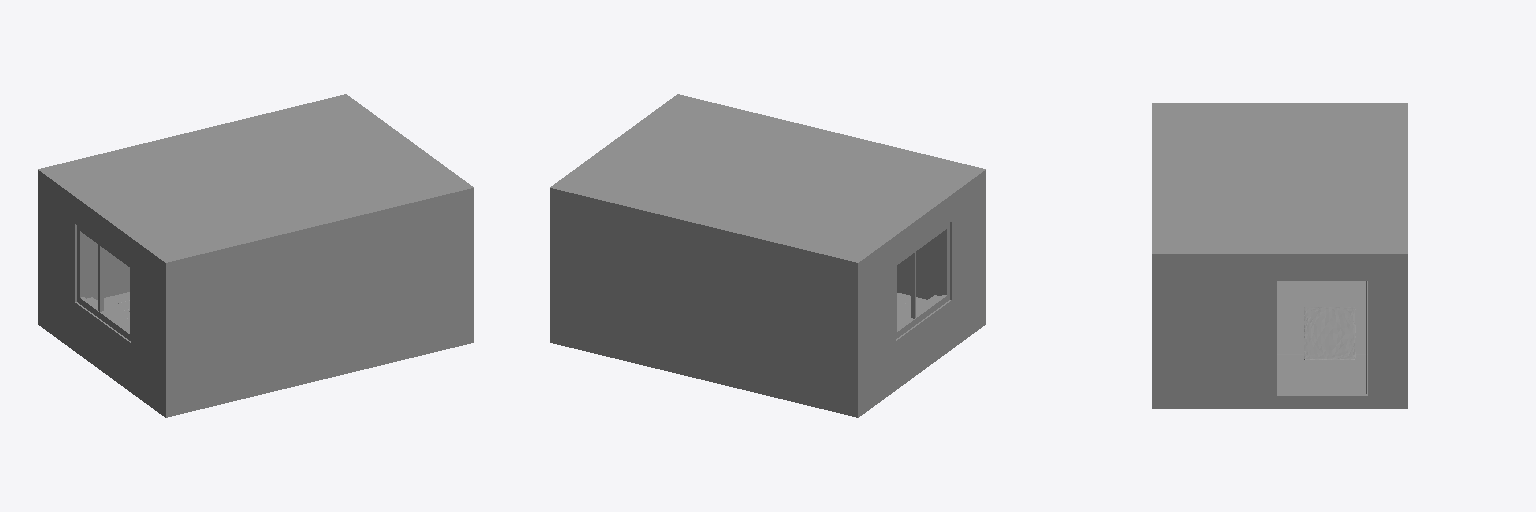
The model's file is kitchen3_layout.obj.
3 renders of one model, left to right at view 1: azimuth 30°, elevation 25°; view 2: azimuth 150°, elevation 25°; view 3: azimuth 270°, elevation 25°, orthographic.
Parts seen in each view (by area): view 1: wall.044, ceiling.020, window.032, floor.013; view 2: wall.044, ceiling.020, window.032; view 3: ceiling.020, wall.044, floor.013, carpet.005.
Boxes of the visible parts, box(x1,y1,x2,y2) form: wall.044: box(38, 183, 473, 417); ceiling.020: box(38, 94, 473, 275); window.032: box(77, 225, 130, 340); floor.013: box(97, 292, 129, 323); wall.044: box(550, 183, 985, 417); ceiling.020: box(550, 94, 985, 275); window.032: box(896, 223, 949, 338); ceiling.020: box(1152, 103, 1407, 266); wall.044: box(1152, 267, 1407, 408); floor.013: box(1277, 281, 1367, 393); carpet.005: box(1304, 307, 1355, 359).
Bounding box in the file's own units: 7.59 × 3.64 × 5.45.